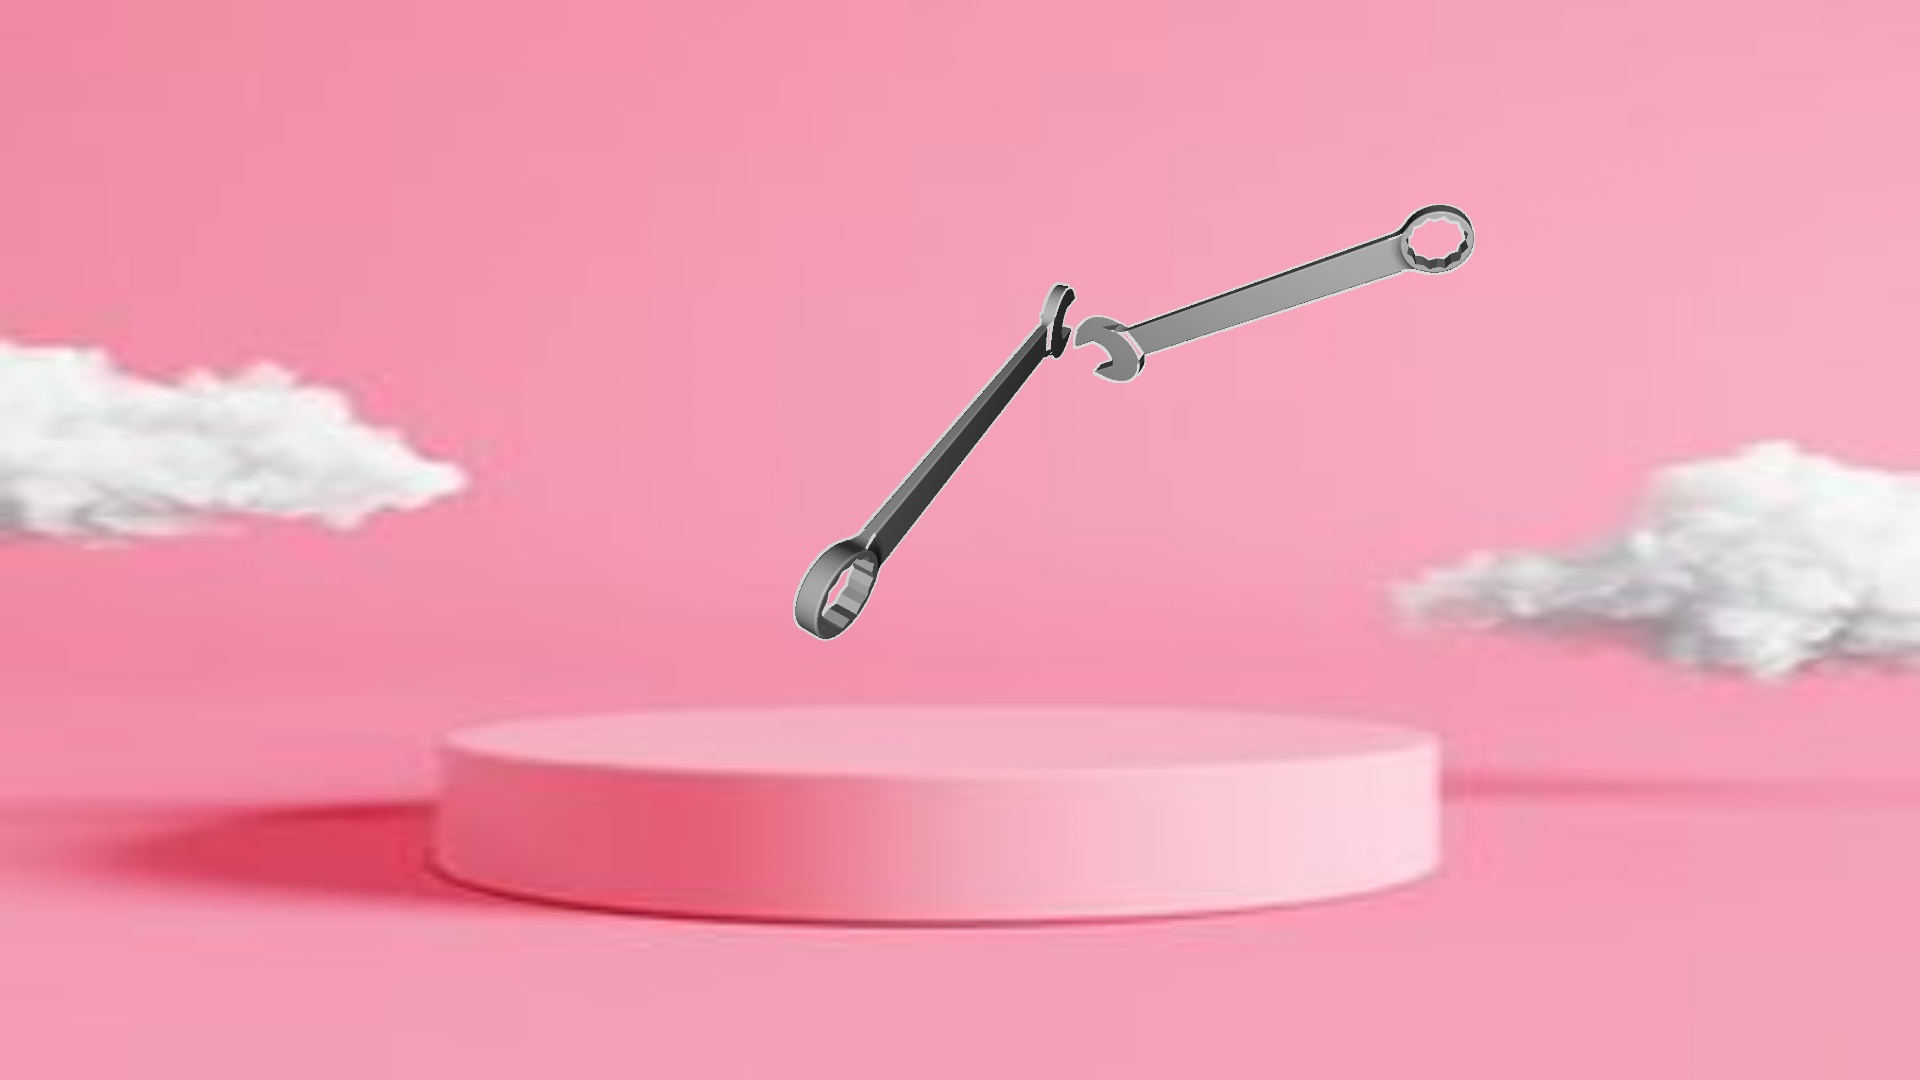Mixed Key: (793, 282, 1076, 640), (1073, 204, 1474, 382)
